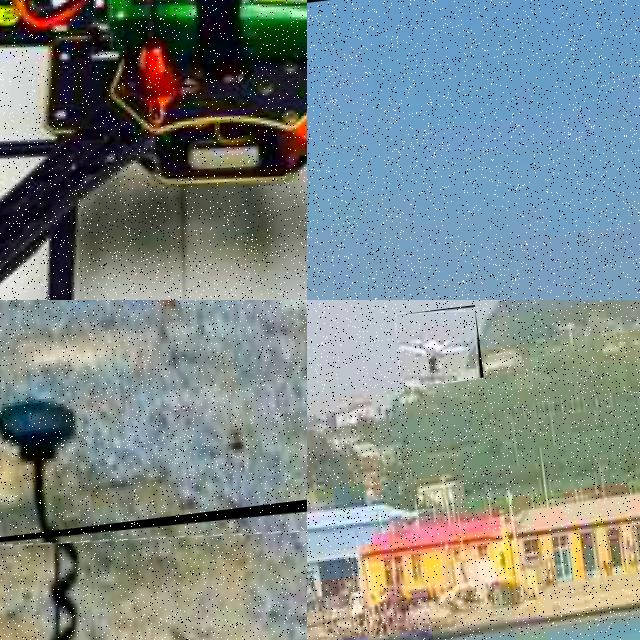drone: (0, 0, 307, 300), (0, 487, 307, 640), (393, 304, 483, 387)
